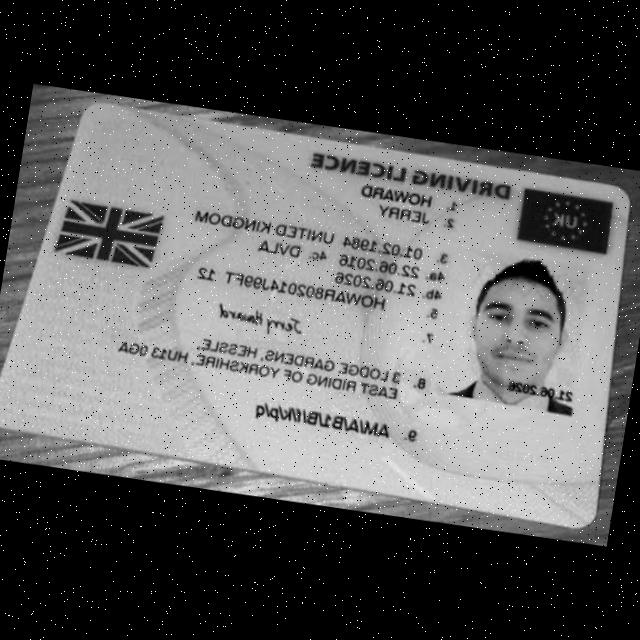card: (0, 104, 628, 527)
